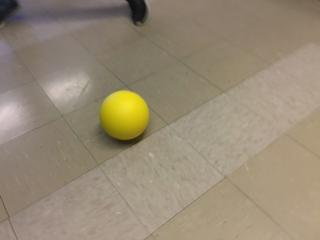power_cell: (98, 90, 154, 145)
